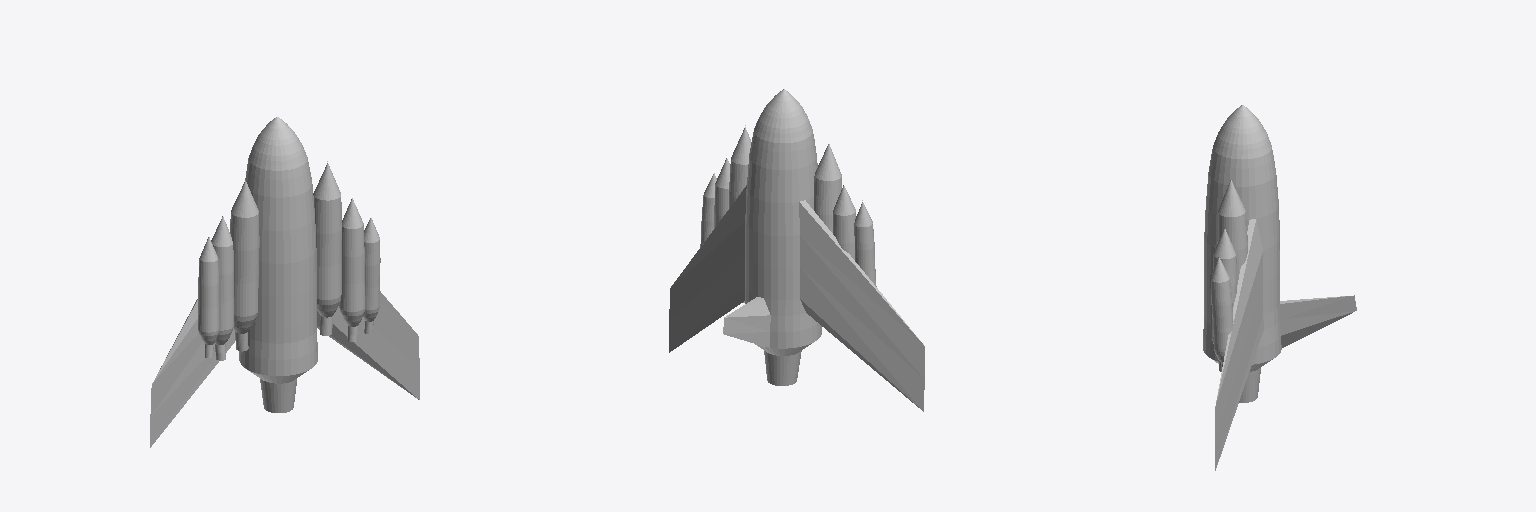
File: rafale.obj
3 renders of one model, left to right at view 1: azimuth 30°, elevation 25°; view 2: azimuth 150°, elevation 25°; view 3: azimuth 270°, elevation 25°, orthographic.
Parts seen in each view (by area): view 1: Cylinder; view 2: Cylinder; view 3: Cylinder.
Boxes of the visible parts, <box> form: Cylinder: <box>150,117,419,447</box>; Cylinder: <box>669,89,924,411</box>; Cylinder: <box>1203,105,1356,470</box>.
Size of the model in its own units: 5.13 by 5.7 by 2.61.